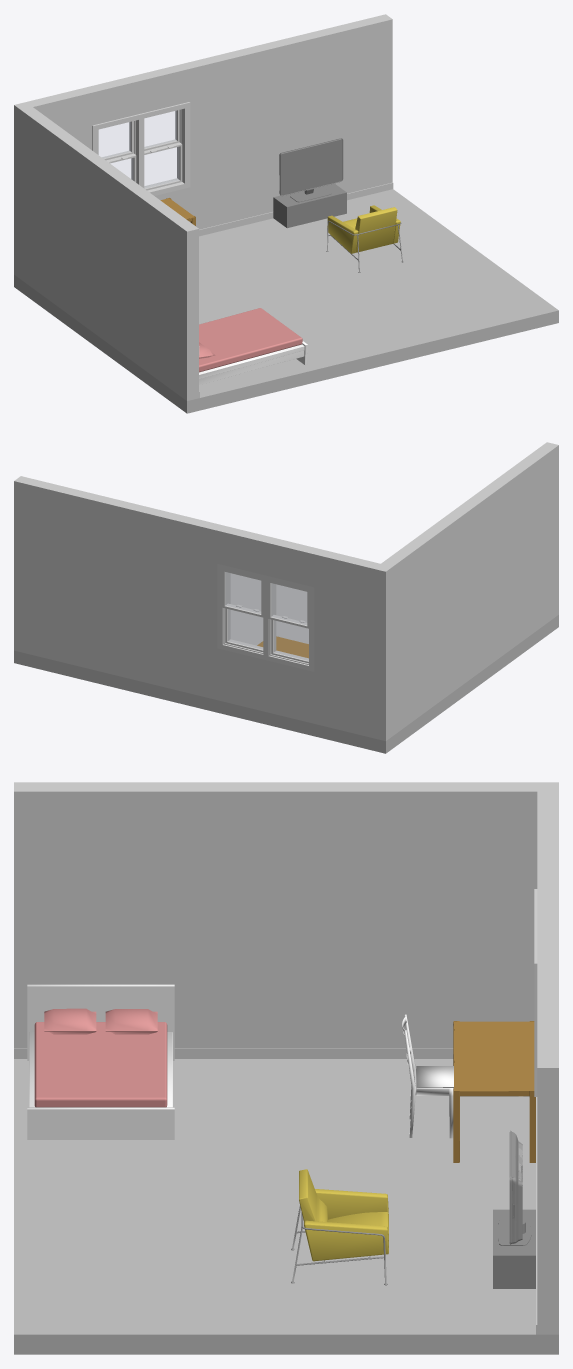
Rendered from L16_W20_furniture3_daylight2.glb.
The picture shows the model from 3 angles, top to bottom: view 1: azimuth 30°, elevation 25°; view 2: azimuth 150°, elevation 25°; view 3: azimuth 270°, elevation 25°; orthographic projection. The views are drawn at different scales.
Size of the model in its own units: 248 by 116 by 200.
